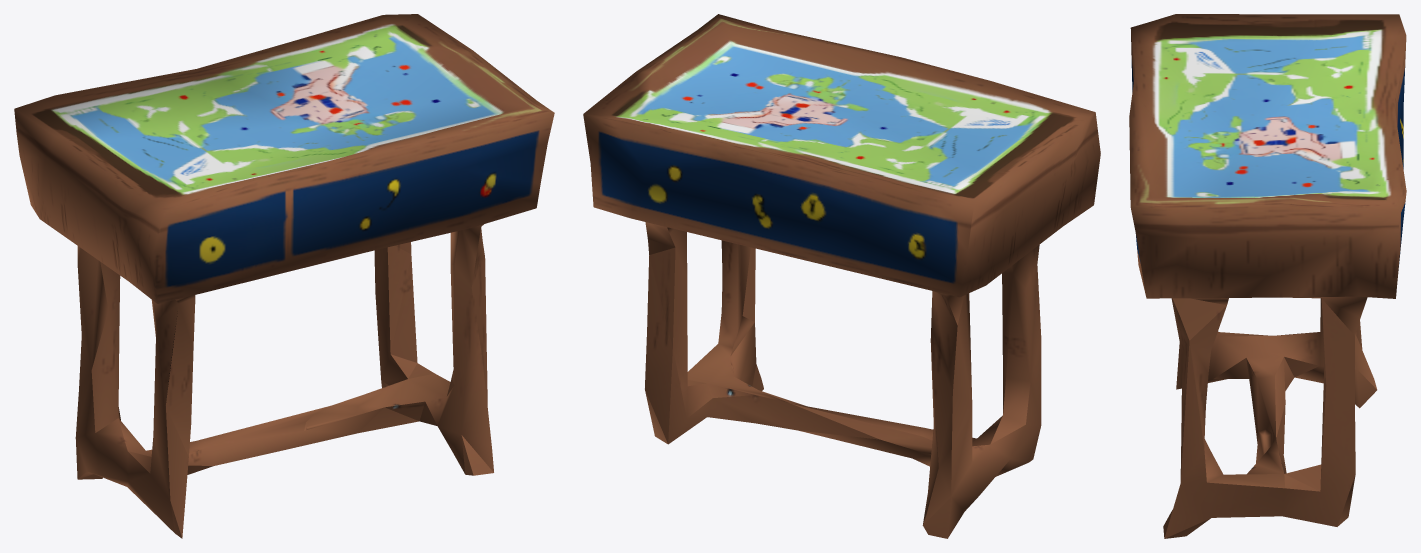
Rendered from harbor-chart-table.glb.
The picture shows the model from 3 angles, left to right: view 1: azimuth 30°, elevation 25°; view 2: azimuth 150°, elevation 25°; view 3: azimuth 270°, elevation 25°; orthographic projection. The views are drawn at different scales.
Parts seen in each view (by area): view 1: geometry_0.001; view 2: geometry_0.001; view 3: geometry_0.001.
Part boxes in pixels (x1,y1,x2,y2): geometry_0.001: (14, 14, 554, 538); geometry_0.001: (583, 14, 1100, 538); geometry_0.001: (1129, 14, 1406, 538).
Size of the model in its own units: 0.9986 by 0.8798 by 0.6086.
1 material, 1 textured.
